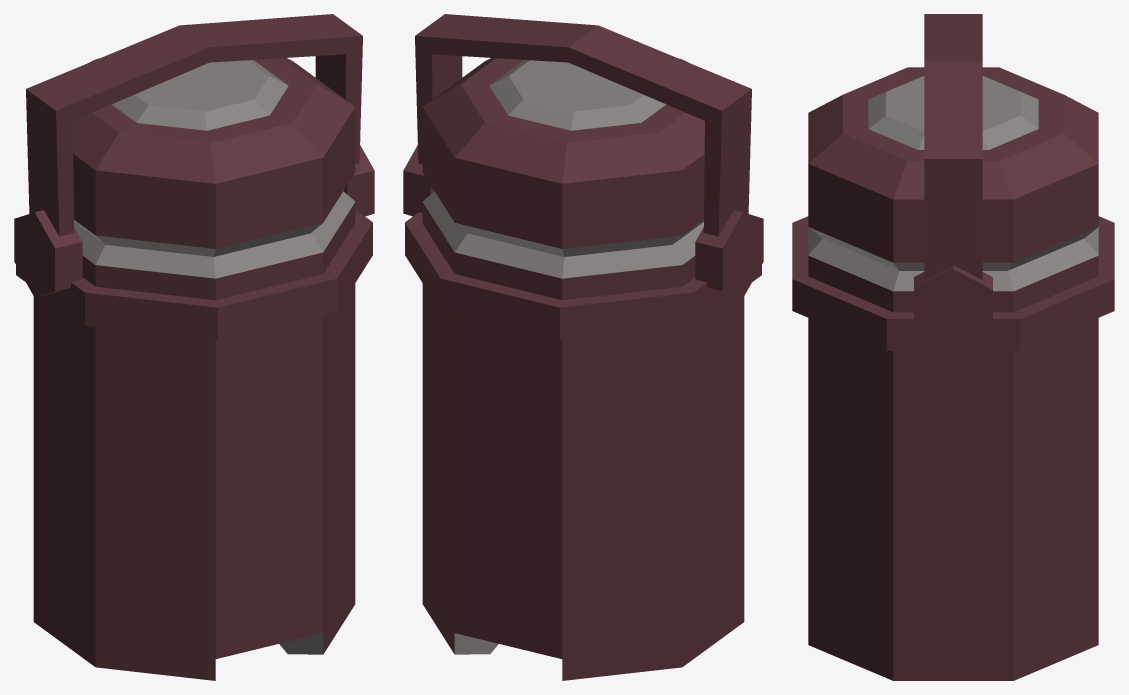
The model's file is scifi-vial-holder.fbx.
3 views of the same model, side by side, from view 1: azimuth 30°, elevation 25°; view 2: azimuth 150°, elevation 25°; view 3: azimuth 270°, elevation 25° (orthographic). The views are drawn at different scales.
Visible parts, largest first — view 1: scifi-vial-holder; view 2: scifi-vial-holder; view 3: scifi-vial-holder.
Boxes of the visible parts, bbox=[...] form: scifi-vial-holder: bbox=[14, 14, 374, 680]; scifi-vial-holder: bbox=[403, 14, 763, 680]; scifi-vial-holder: bbox=[792, 14, 1114, 680].
Size of the model in its own units: 0.615 by 1.08 by 0.5543.
